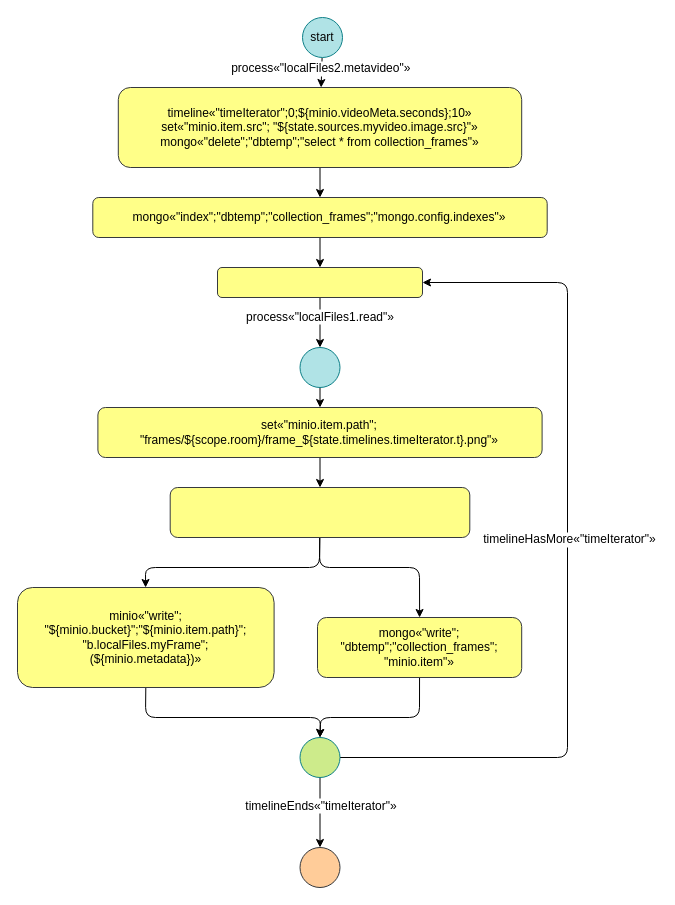
Some shapes in this 675 by 905 pixel diagram are drawn without their labels. The centre of each missing label's shape, as x and y in pixels:
end: [319,867]
set«"minio.item.t"; ${state.timelines.timeIterator.t}»: [319,512]
timelineNext«"timeIterator"»: [319,282]
